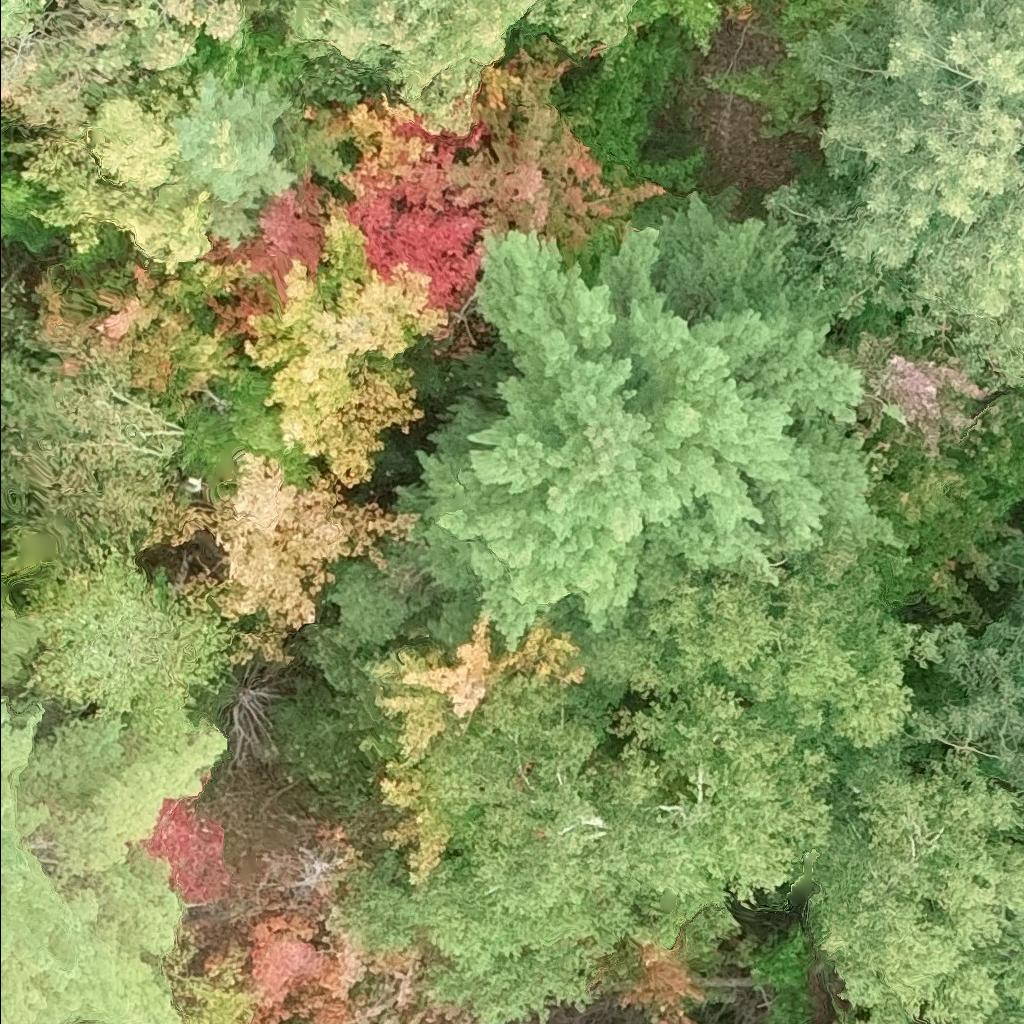crown: (396, 190, 903, 645), (607, 545, 960, 952), (206, 44, 667, 314), (774, 0, 1023, 386), (0, 606, 226, 1023), (816, 301, 1023, 629), (413, 669, 667, 920), (140, 448, 423, 666), (244, 197, 453, 485), (373, 603, 584, 884), (808, 753, 1023, 1023), (278, 0, 637, 133), (408, 847, 655, 1023), (706, 0, 875, 132), (245, 902, 412, 1023), (934, 596, 1023, 789), (615, 928, 706, 1023), (341, 846, 422, 949), (282, 821, 374, 907), (627, 0, 723, 54), (991, 421, 1023, 498), (1006, 547, 1023, 579), (833, 1010, 865, 1023), (281, 1015, 308, 1023), (735, 0, 751, 13)
